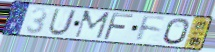3: (25, 6, 50, 35)
F: (101, 11, 135, 42), (135, 14, 168, 43)
M: (73, 10, 112, 40)
O: (162, 17, 192, 46)
U: (47, 8, 78, 37)
